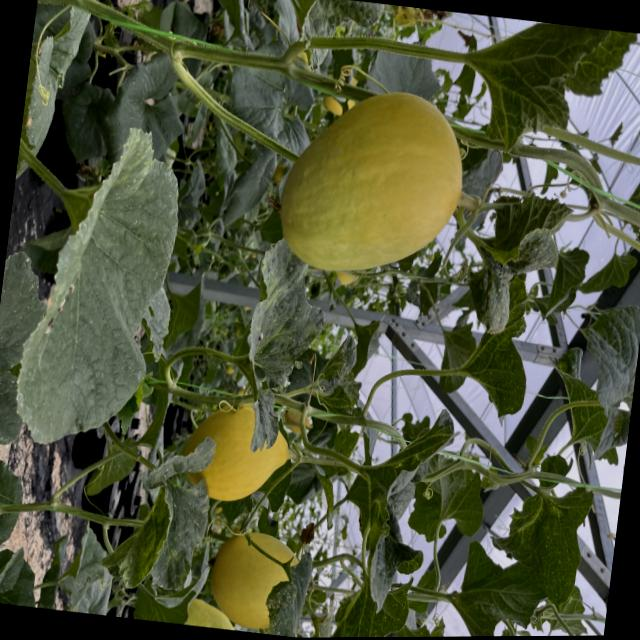CMV: (460, 12, 636, 168), (338, 398, 456, 608), (457, 324, 540, 437), (315, 569, 415, 638), (269, 0, 385, 44), (387, 610, 447, 637)
SLCV: (97, 421, 224, 602), (224, 241, 330, 456), (460, 208, 560, 344), (304, 322, 376, 430)
alternaria leaf blight: (15, 0, 98, 188)
downy mildew: (8, 115, 188, 457), (476, 468, 598, 621), (15, 0, 96, 182)
healthy: (558, 289, 640, 466), (104, 34, 196, 167), (406, 471, 486, 552), (0, 535, 45, 608)
powdery mildew: (262, 543, 315, 638)
